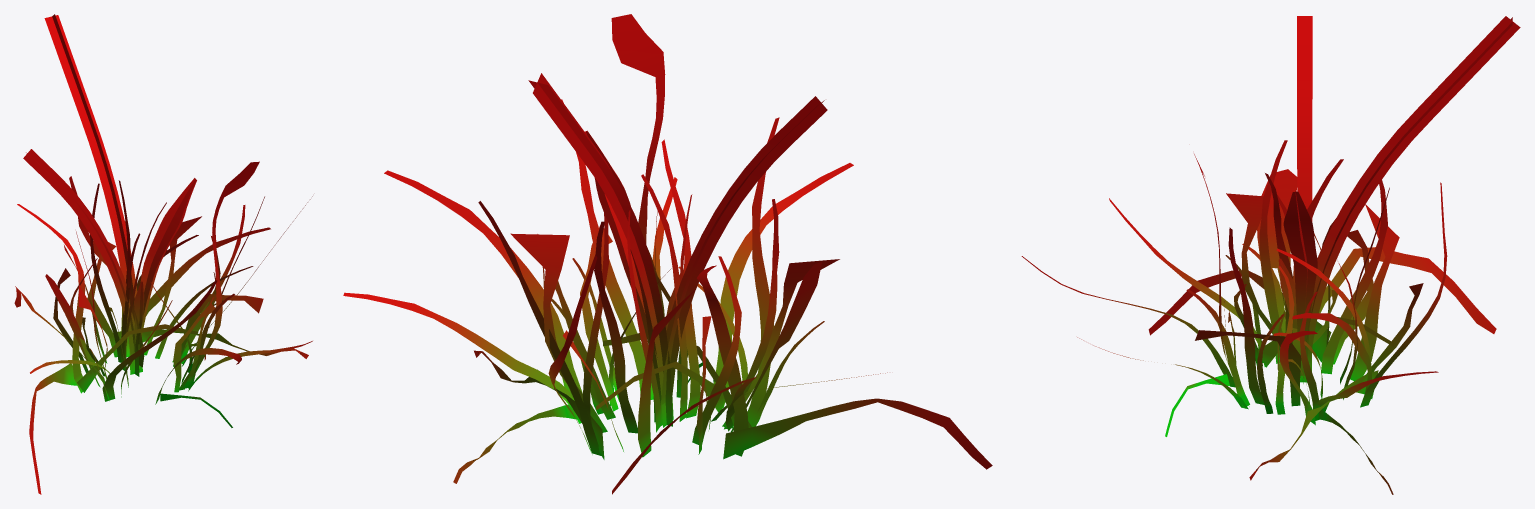
The model's file is slBjG_Var6_LOD0.fbx.
3 renders of one model, left to right at view 1: azimuth 30°, elevation 25°; view 2: azimuth 150°, elevation 25°; view 3: azimuth 270°, elevation 25°, orthographic. The views are drawn at different scales.
Parts seen in each view (by area): view 1: _e044_Var6_LOD0; view 2: _e044_Var6_LOD0; view 3: _e044_Var6_LOD0.
Part boxes in pixels (left/top/right/bottom): _e044_Var6_LOD0: left=14, top=14, right=312, bottom=494; _e044_Var6_LOD0: left=343, top=14, right=992, bottom=494; _e044_Var6_LOD0: left=1021, top=16, right=1520, bottom=494.
Bounding box in the file's own units: 26.67 × 25.01 × 27.14.
